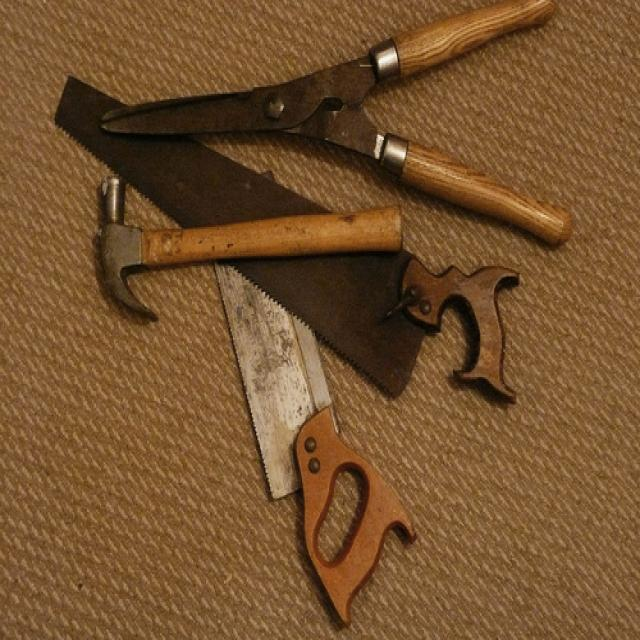hammer: (69, 166, 420, 341)
